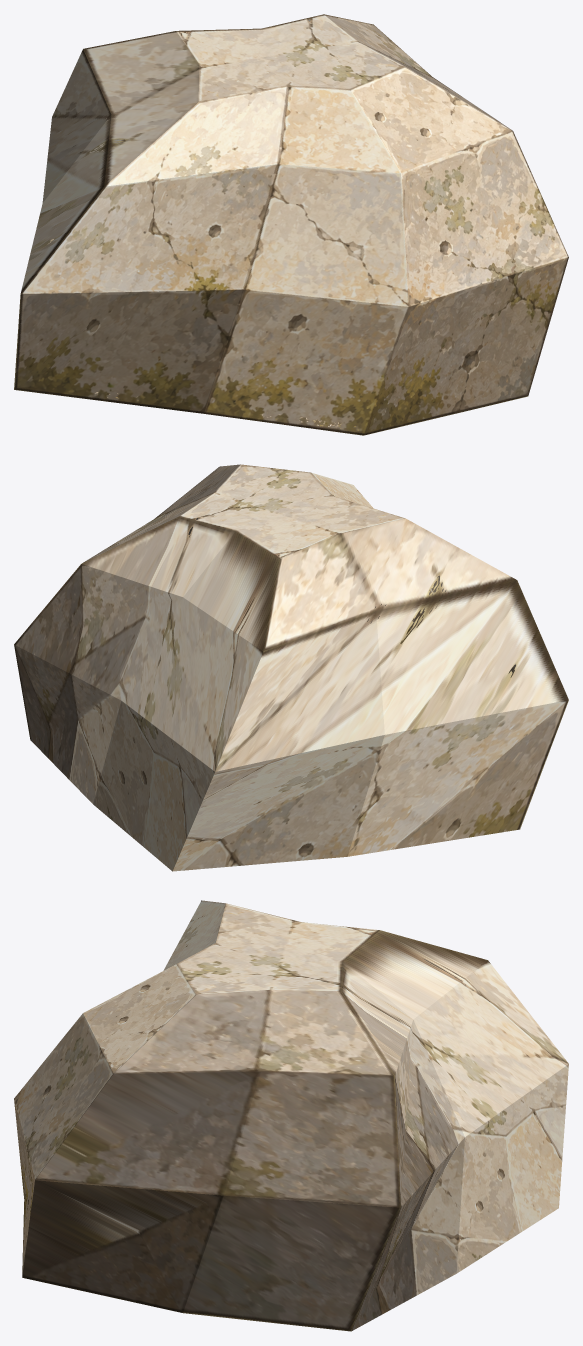
File: rock_a.glb
The picture shows the model from 3 angles, top to bottom: view 1: azimuth 30°, elevation 25°; view 2: azimuth 150°, elevation 25°; view 3: azimuth 270°, elevation 25°; orthographic projection. The views are drawn at different scales.
Parts seen in each view (by area): view 1: rock_a_game; view 2: rock_a_game; view 3: rock_a_game.
Part boxes in pixels (x1=…): rock_a_game: x1=14, y1=14, x2=568, y2=435; rock_a_game: x1=14, y1=464, x2=568, y2=871; rock_a_game: x1=14, y1=900, x2=568, y2=1331.
Bounding box in the file's own units: 2.17 × 1.1 × 2.07.
1 material, 1 textured.
